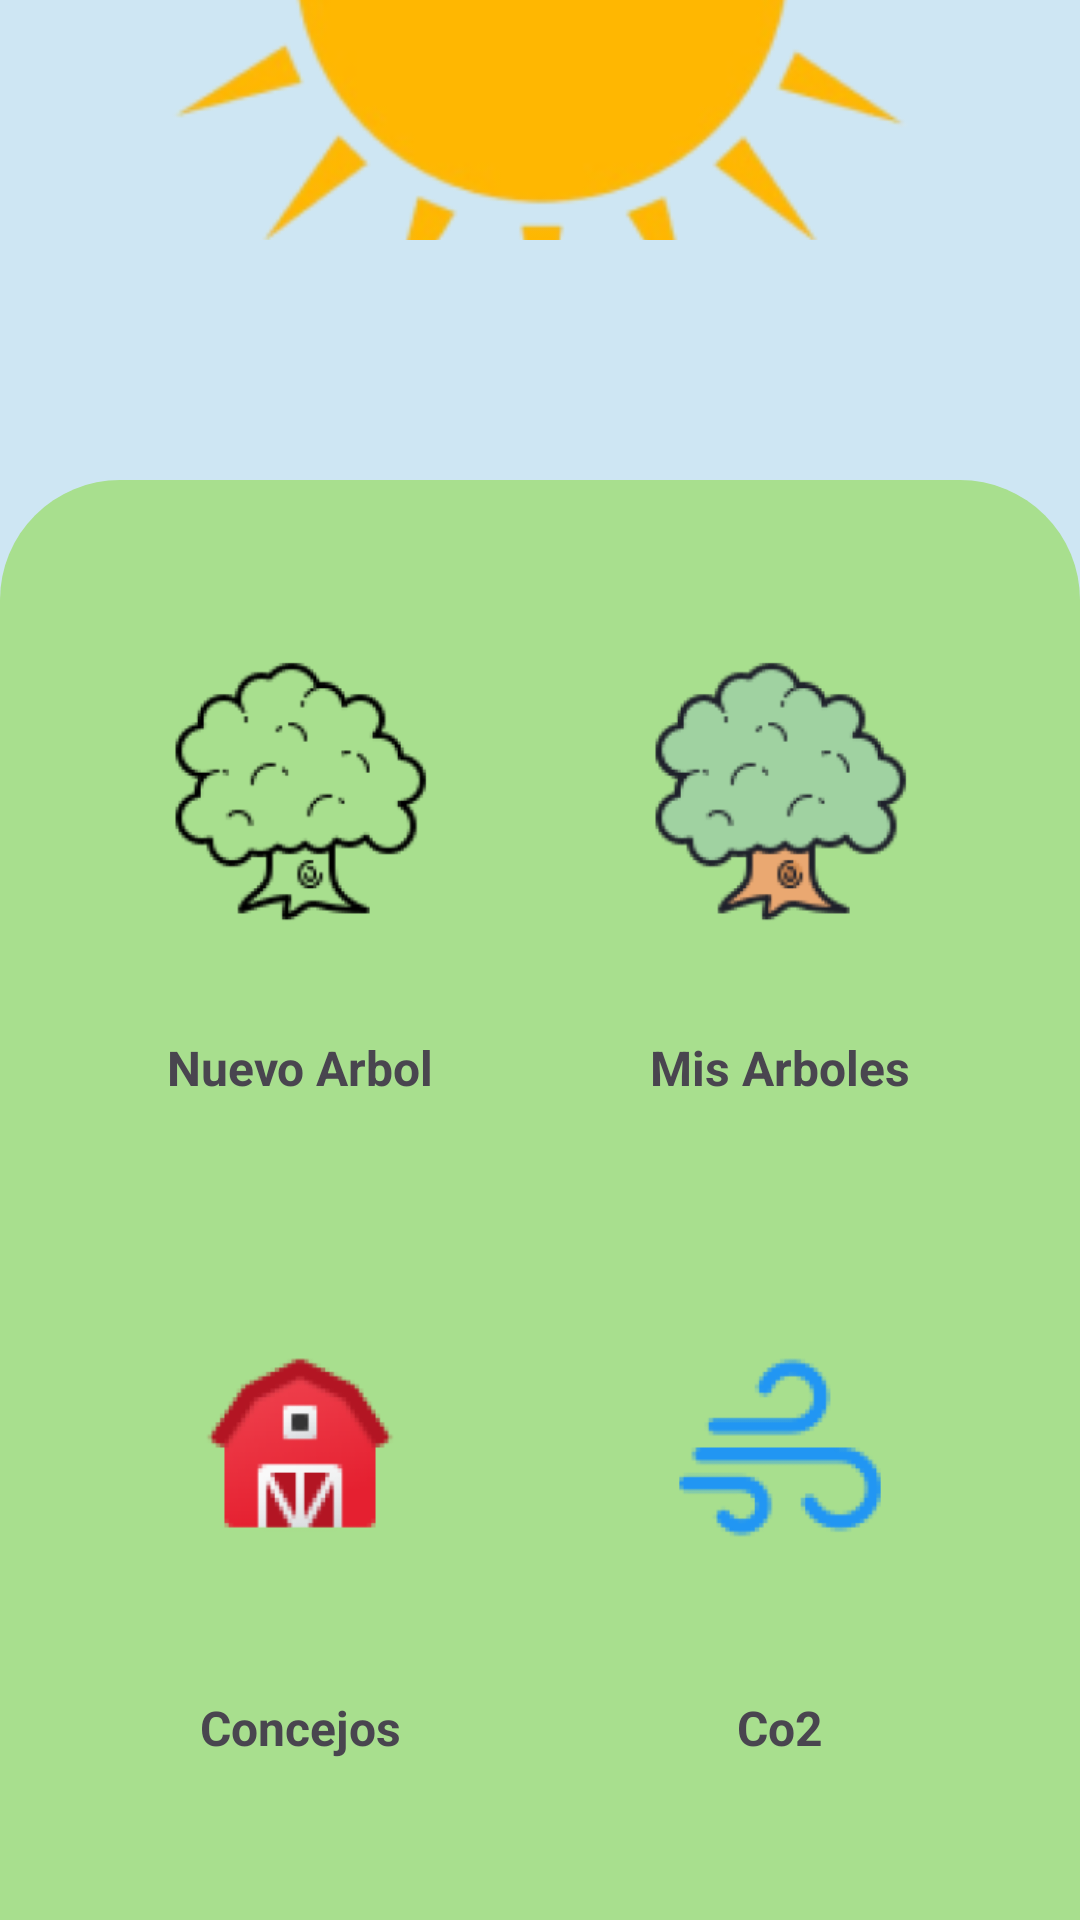

Icon bounding boxes for this 1080w x 1920h phone screenshot, format (x1, y1, x2, y2):
farm: (208, 1358, 392, 1528)
tree: (175, 663, 426, 920), (655, 663, 906, 920)
